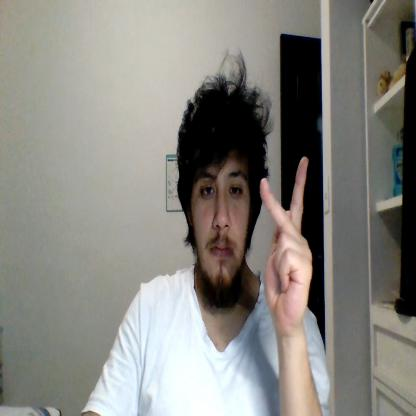P: (260, 156, 313, 327)
